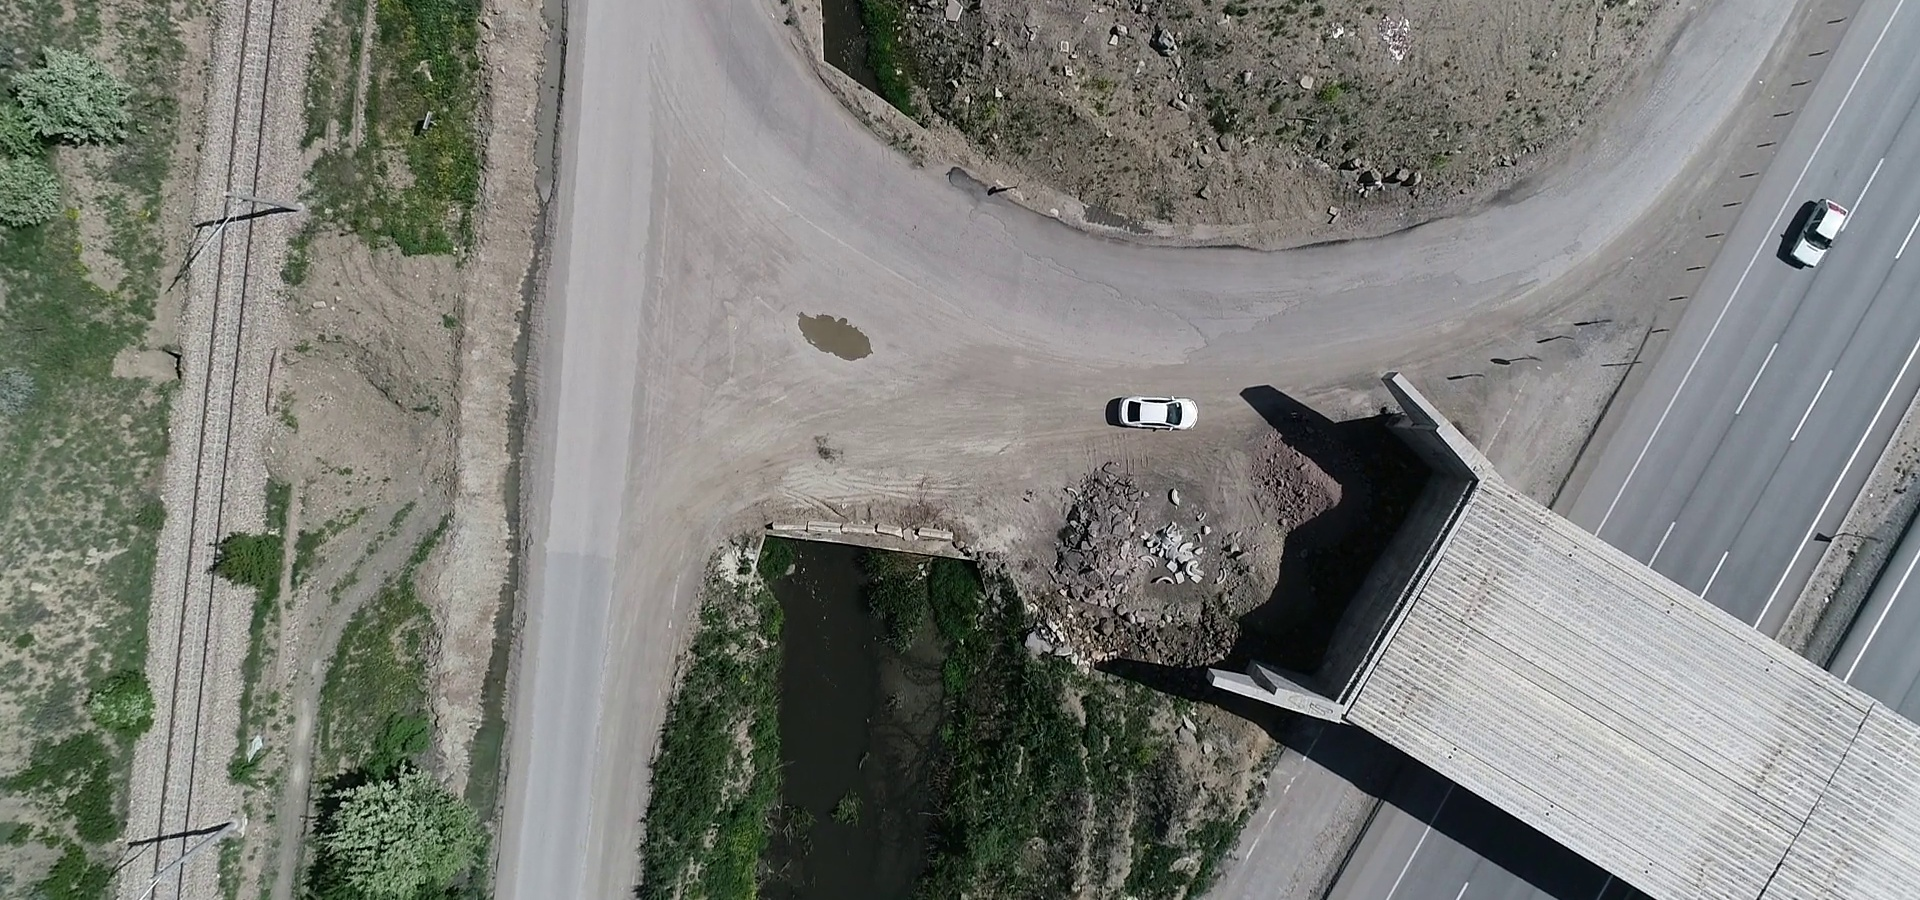arac: (1783, 190, 1860, 278), (1109, 387, 1212, 440)
